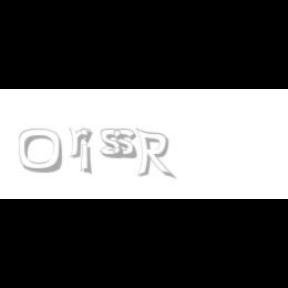O: (18, 128, 64, 174)
R: (135, 128, 173, 180)
i: (80, 128, 96, 176)
r: (68, 128, 96, 158)
s: (100, 128, 128, 160), (113, 128, 141, 160)
